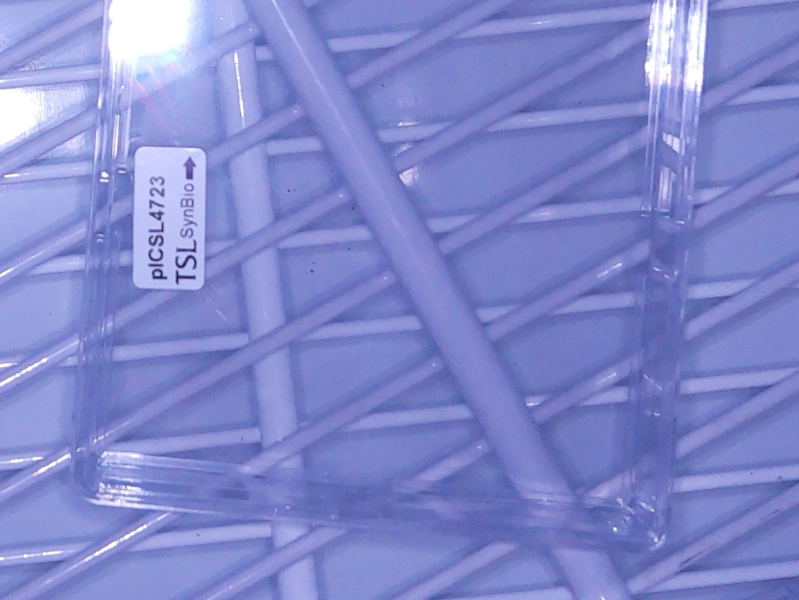plate: (70, 1, 711, 556)
